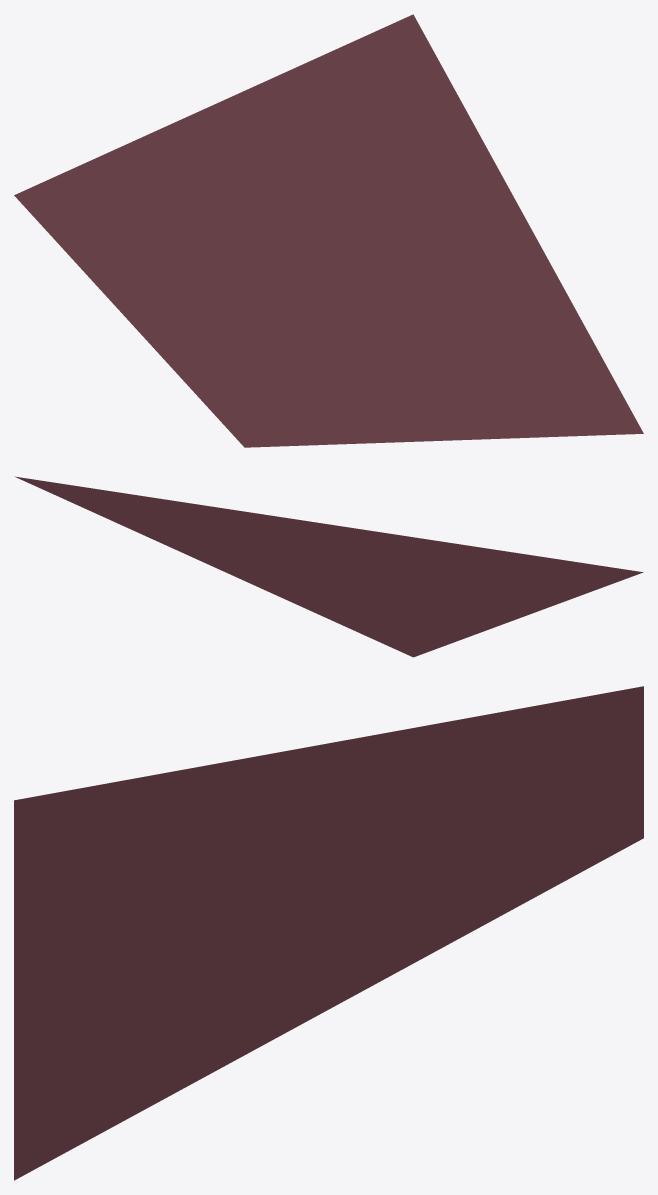
The model's file is tiles-nb-tile-hill-askew-valley-corner-nb.glb.
The picture shows the model from 3 angles, top to bottom: view 1: azimuth 30°, elevation 25°; view 2: azimuth 150°, elevation 25°; view 3: azimuth 270°, elevation 25°; orthographic projection. The views are drawn at different scales.
Visible parts, largest first — view 1: tile-hill-askew-valley-corner-nb; view 2: tile-hill-askew-valley-corner-nb; view 3: tile-hill-askew-valley-corner-nb.
Boxes of the visible parts, left/top/right/bottom form: tile-hill-askew-valley-corner-nb: left=14, top=14, right=643, bottom=447; tile-hill-askew-valley-corner-nb: left=15, top=476, right=643, bottom=657; tile-hill-askew-valley-corner-nb: left=14, top=686, right=643, bottom=1180.
Bounding box in the file's own units: 30 × 18 × 30.
